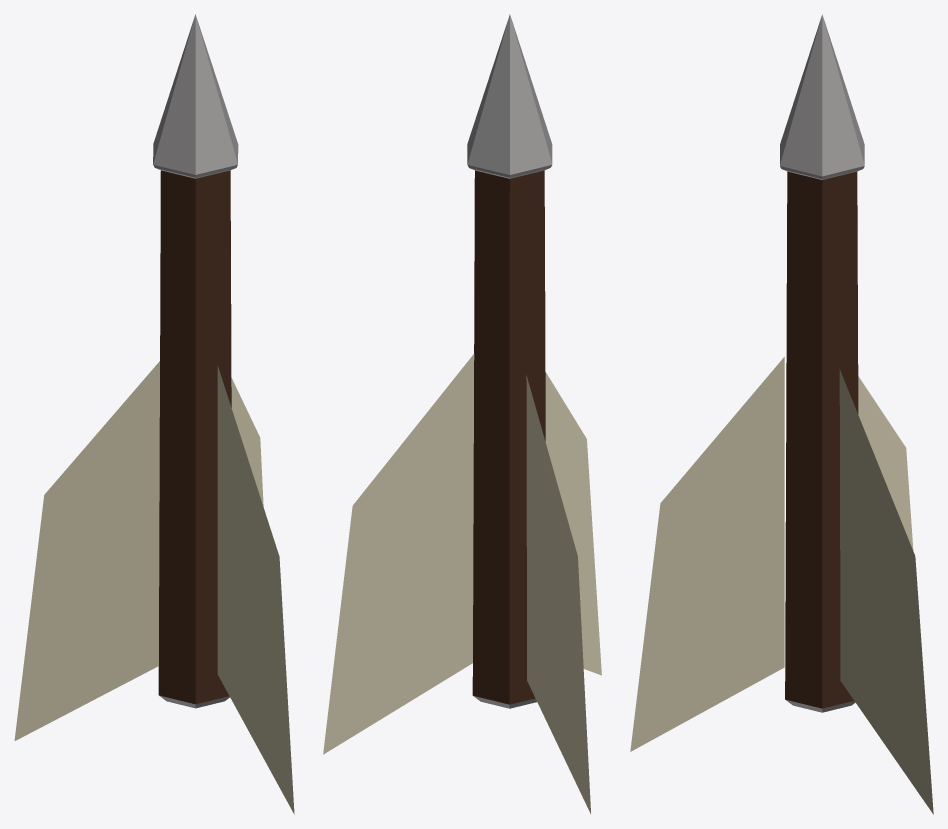
Rendered from SMLDart.fbx.
The picture shows the model from 3 angles, left to right: view 1: azimuth 30°, elevation 25°; view 2: azimuth 150°, elevation 25°; view 3: azimuth 270°, elevation 25°; orthographic projection.
Parts seen in each view (by area): view 1: SMLDart; view 2: SMLDart; view 3: SMLDart.
Part boxes in pixels (x1,y1,x2,y2): SMLDart: [14, 14, 294, 814]; SMLDart: [323, 14, 601, 813]; SMLDart: [630, 14, 933, 814].
Size of the model in its own units: 5.77 by 15.36 by 5.74.
